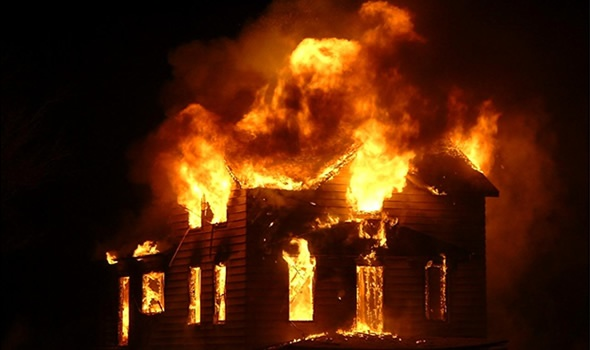fire: (168, 35, 504, 226), (353, 227, 391, 337), (282, 234, 313, 323), (115, 275, 132, 345), (140, 271, 166, 313), (213, 259, 227, 325), (188, 265, 201, 322), (132, 239, 161, 261), (101, 249, 120, 266)
